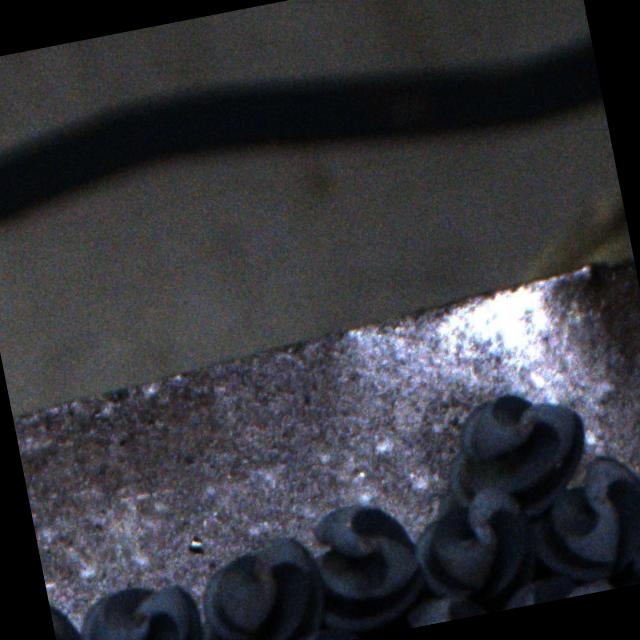tool_b: (418, 378, 600, 532), (406, 481, 544, 624), (304, 492, 434, 635), (520, 447, 640, 588), (193, 532, 331, 640), (71, 574, 213, 640)
